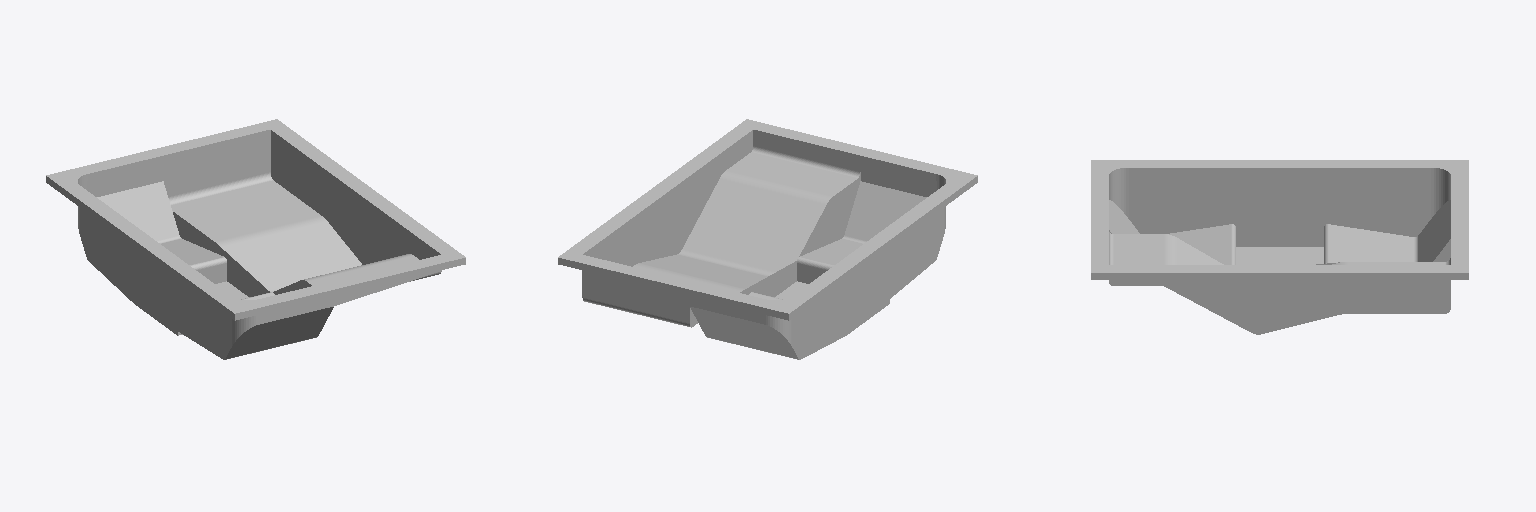
File: SIRIUS_BLANCA.obj
3 views of the same model, side by side, from view 1: azimuth 30°, elevation 25°; view 2: azimuth 150°, elevation 25°; view 3: azimuth 270°, elevation 25° (orthographic).
Parts seen in each view (by area): view 1: Mesh1 Group1 Model; view 2: Mesh1 Group1 Model; view 3: Mesh1 Group1 Model.
Boxes of the visible parts, box(x1,y1,x2,y2) form: Mesh1 Group1 Model: box(46, 119, 465, 359); Mesh1 Group1 Model: box(558, 119, 977, 359); Mesh1 Group1 Model: box(1091, 160, 1468, 334).
Bounding box in the file's own units: 147 × 48 × 208.